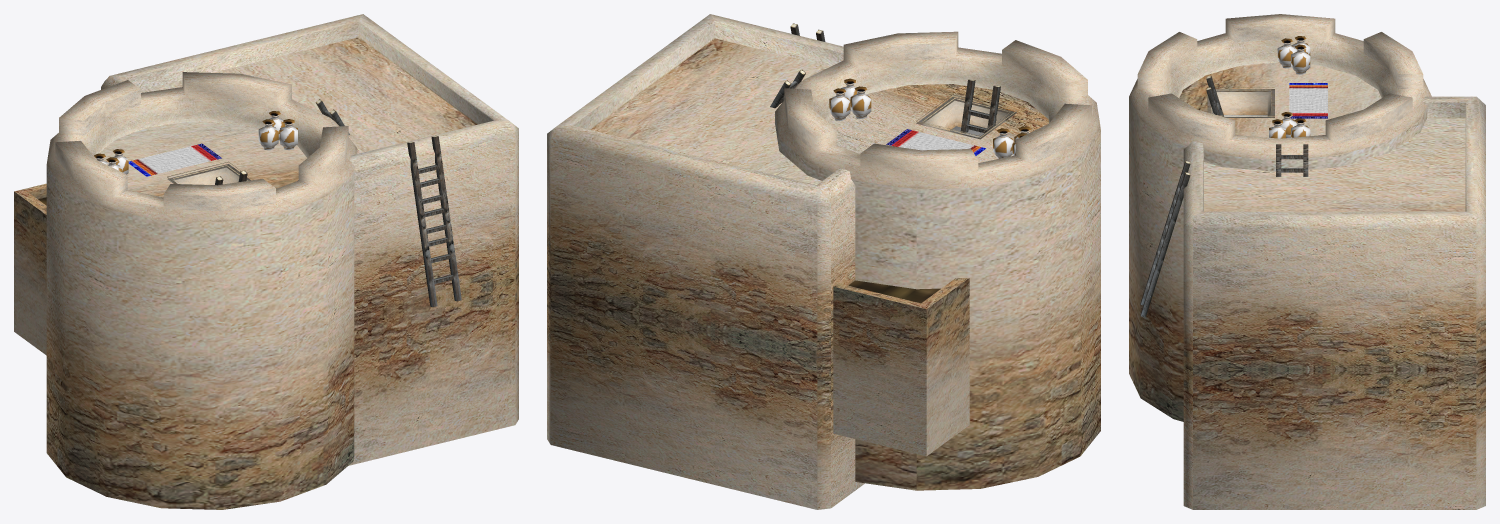
Rendered from temple_hopi.dae.
3 views of the same model, side by side, from view 1: azimuth 30°, elevation 25°; view 2: azimuth 150°, elevation 25°; view 3: azimuth 270°, elevation 25° (orthographic). The views are drawn at different scales.
Visible parts, largest first — view 1: Cylinder; view 2: Cylinder; view 3: Cylinder.
Part boxes in pixels (bbox=[...]): Cylinder: bbox=[14, 14, 518, 509]; Cylinder: bbox=[547, 14, 1100, 509]; Cylinder: bbox=[1129, 14, 1485, 509].
Bounding box in the file's own units: 36 × 28.28 × 26.91.
